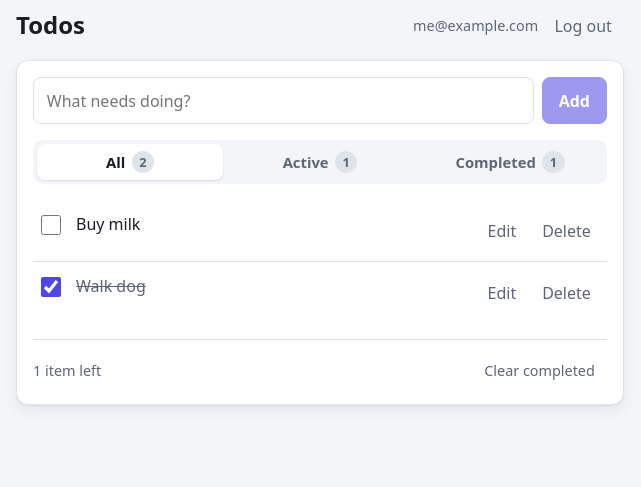
Scenario: TodosPage › adds a todo to the top of the list and clears the input
Check: the text "Buy milk" is shown, box [76, 213, 140, 235]
Type "  Write tests  " into the field named "New todo" at (283,101), box [33, 77, 534, 124]
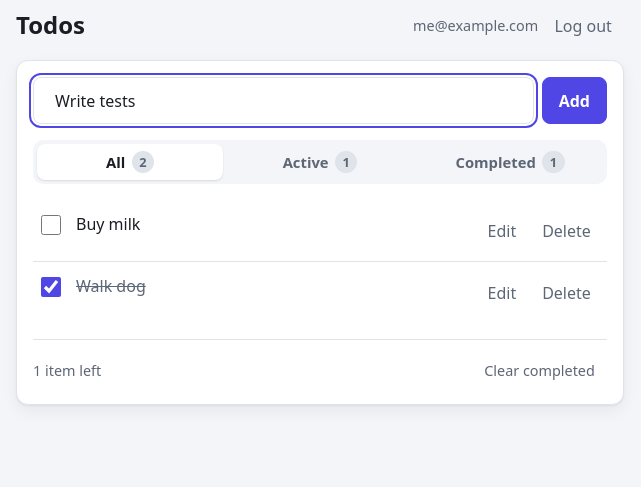
Click the button "Add" at (574,101), box [542, 77, 607, 124]
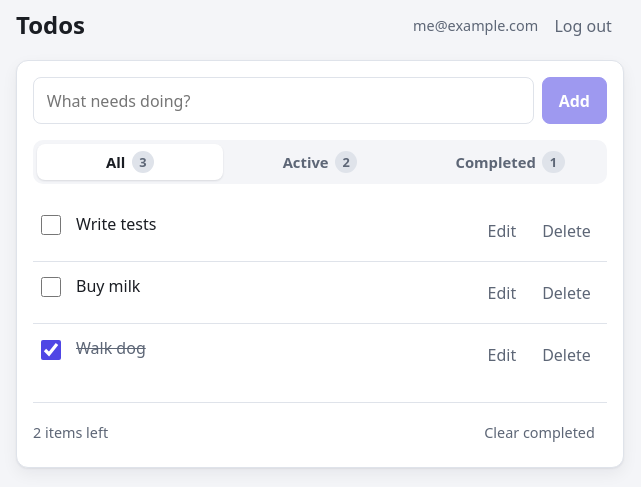
Check: the list item "Write tests Edit Delete" is shown, box [33, 200, 607, 261]
Check: the field named "New todo" is empty, box [33, 77, 534, 124]
